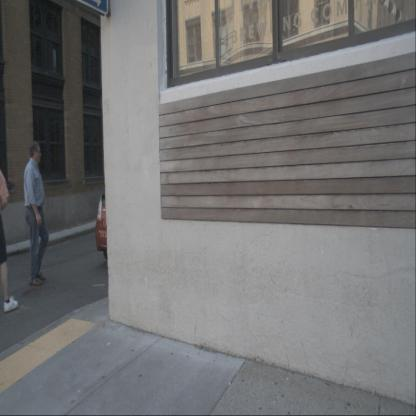human-pedestrian-adult: (24, 141, 49, 286), (0, 151, 18, 313)
